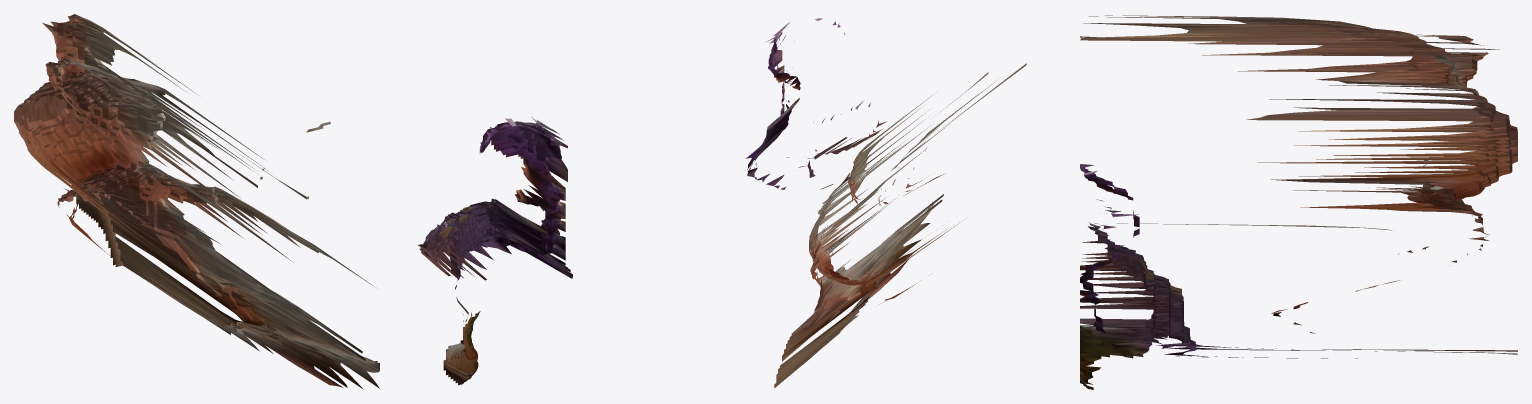
The model's file is frame_00298.glb.
3 renders of one model, left to right at view 1: azimuth 30°, elevation 25°; view 2: azimuth 150°, elevation 25°; view 3: azimuth 270°, elevation 25°, orthographic. The views are drawn at different scales.
Visible parts, largest first — view 1: geometry_0; view 2: geometry_0; view 3: geometry_0.
Boxes of the visible parts, x1,y1,x2,y2 form: geometry_0: [14, 14, 572, 389]; geometry_0: [745, 18, 1026, 387]; geometry_0: [1080, 15, 1517, 389].
Bounding box in the file's own units: 0.1407 × 0.1144 × 0.16.
1 material, 1 textured.
